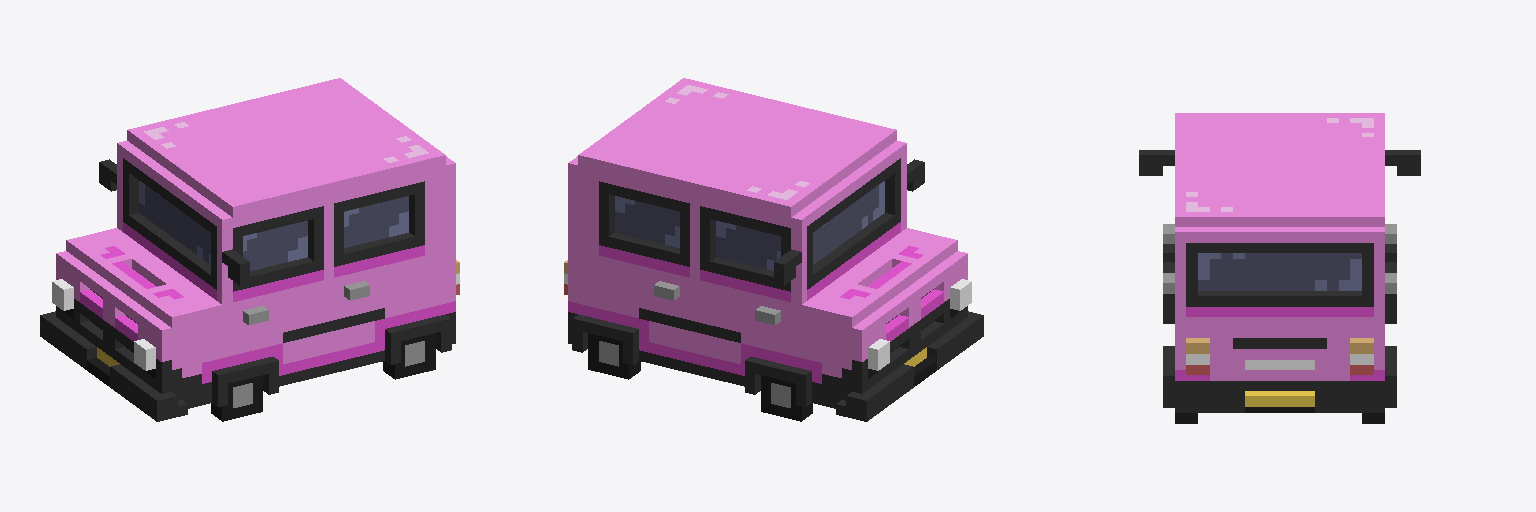
The picture shows the model from 3 angles: view 1: azimuth 30°, elevation 25°; view 2: azimuth 150°, elevation 25°; view 3: azimuth 270°, elevation 25°; orthographic projection.
Parts seen in each view (by area): view 1: Box_96; view 2: Box_96; view 3: Box_96.
Boxes of the visible parts, x1,y1,x2,y2 form: Box_96: [40, 78, 459, 421]; Box_96: [564, 78, 983, 421]; Box_96: [1139, 113, 1420, 423].
Size of the model in its own units: 31 by 20 by 24.
1 materials, 1 textured.